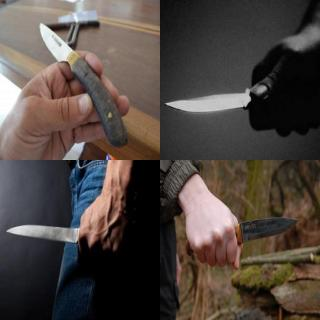knife: (37, 19, 129, 147), (182, 214, 300, 270), (3, 220, 119, 254), (162, 82, 276, 116)
